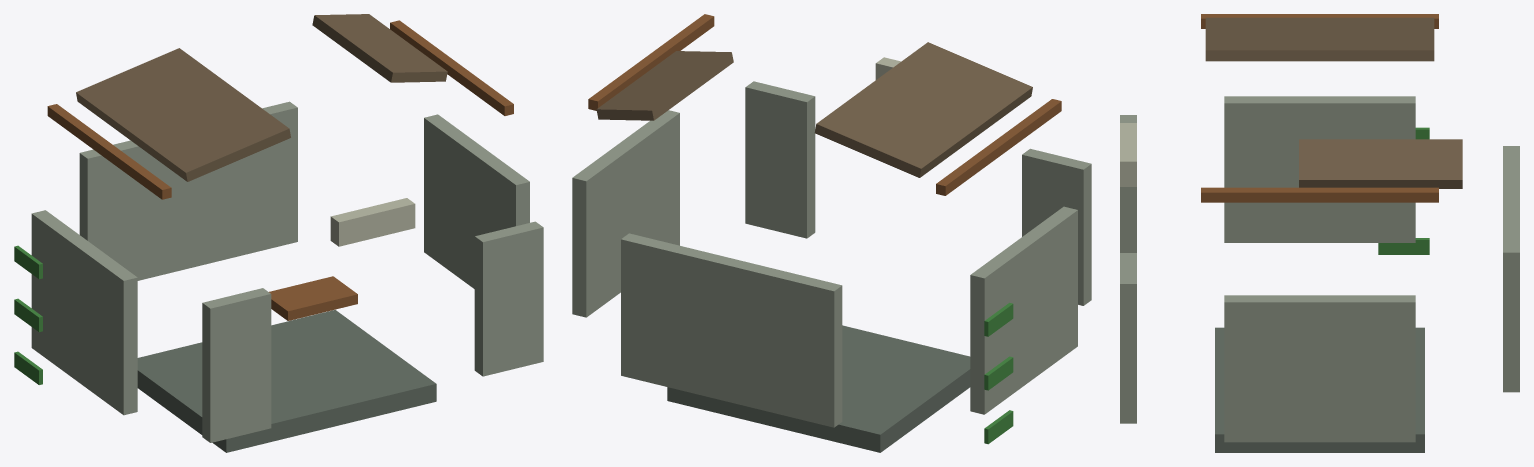
File: SM_RuinExplorerHut_A.glb
The picture shows the model from 3 angles, left to right: view 1: azimuth 30°, elevation 25°; view 2: azimuth 150°, elevation 25°; view 3: azimuth 270°, elevation 25°; orthographic projection. The views are drawn at different scales.
Visible parts, largest first — view 1: SM_RuinExplorerHut_A; view 2: SM_RuinExplorerHut_A; view 3: SM_RuinExplorerHut_A.
Boxes of the visible parts, x1,y1,x2,y2 form: SM_RuinExplorerHut_A: (14, 14, 543, 452); SM_RuinExplorerHut_A: (572, 14, 1091, 452); SM_RuinExplorerHut_A: (1120, 14, 1519, 452).
Bounding box in the file's own units: 5.36 × 3.85 × 4.28.
